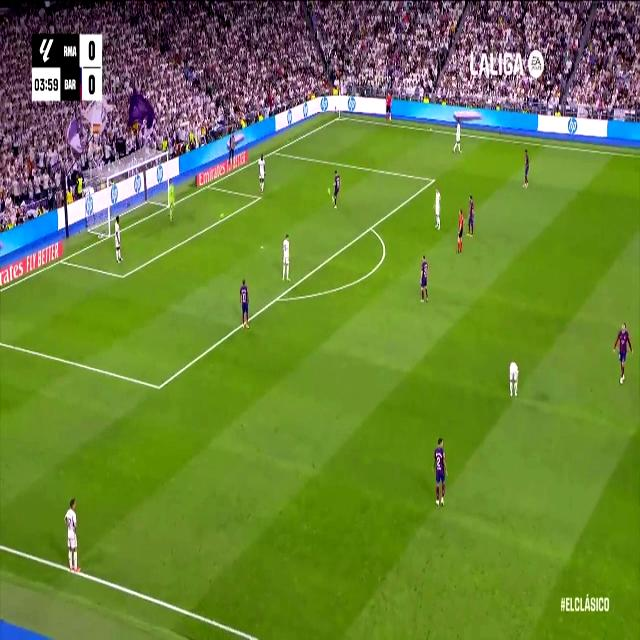bigarea_bottom_inner: (154, 375, 164, 398)
bigarea_top_inner: (430, 173, 435, 186)
bigarea_top_outter: (272, 146, 276, 156)
bottom_arc_area_intersection: (273, 290, 283, 306)
corner: (336, 115, 342, 122)
smallarea_bottom_inner: (119, 268, 127, 286)
smallarea_bottom_outter: (58, 253, 66, 267)
smallarea_top_inner: (257, 192, 262, 202)
top_arc_area_intersection: (367, 218, 375, 234)
